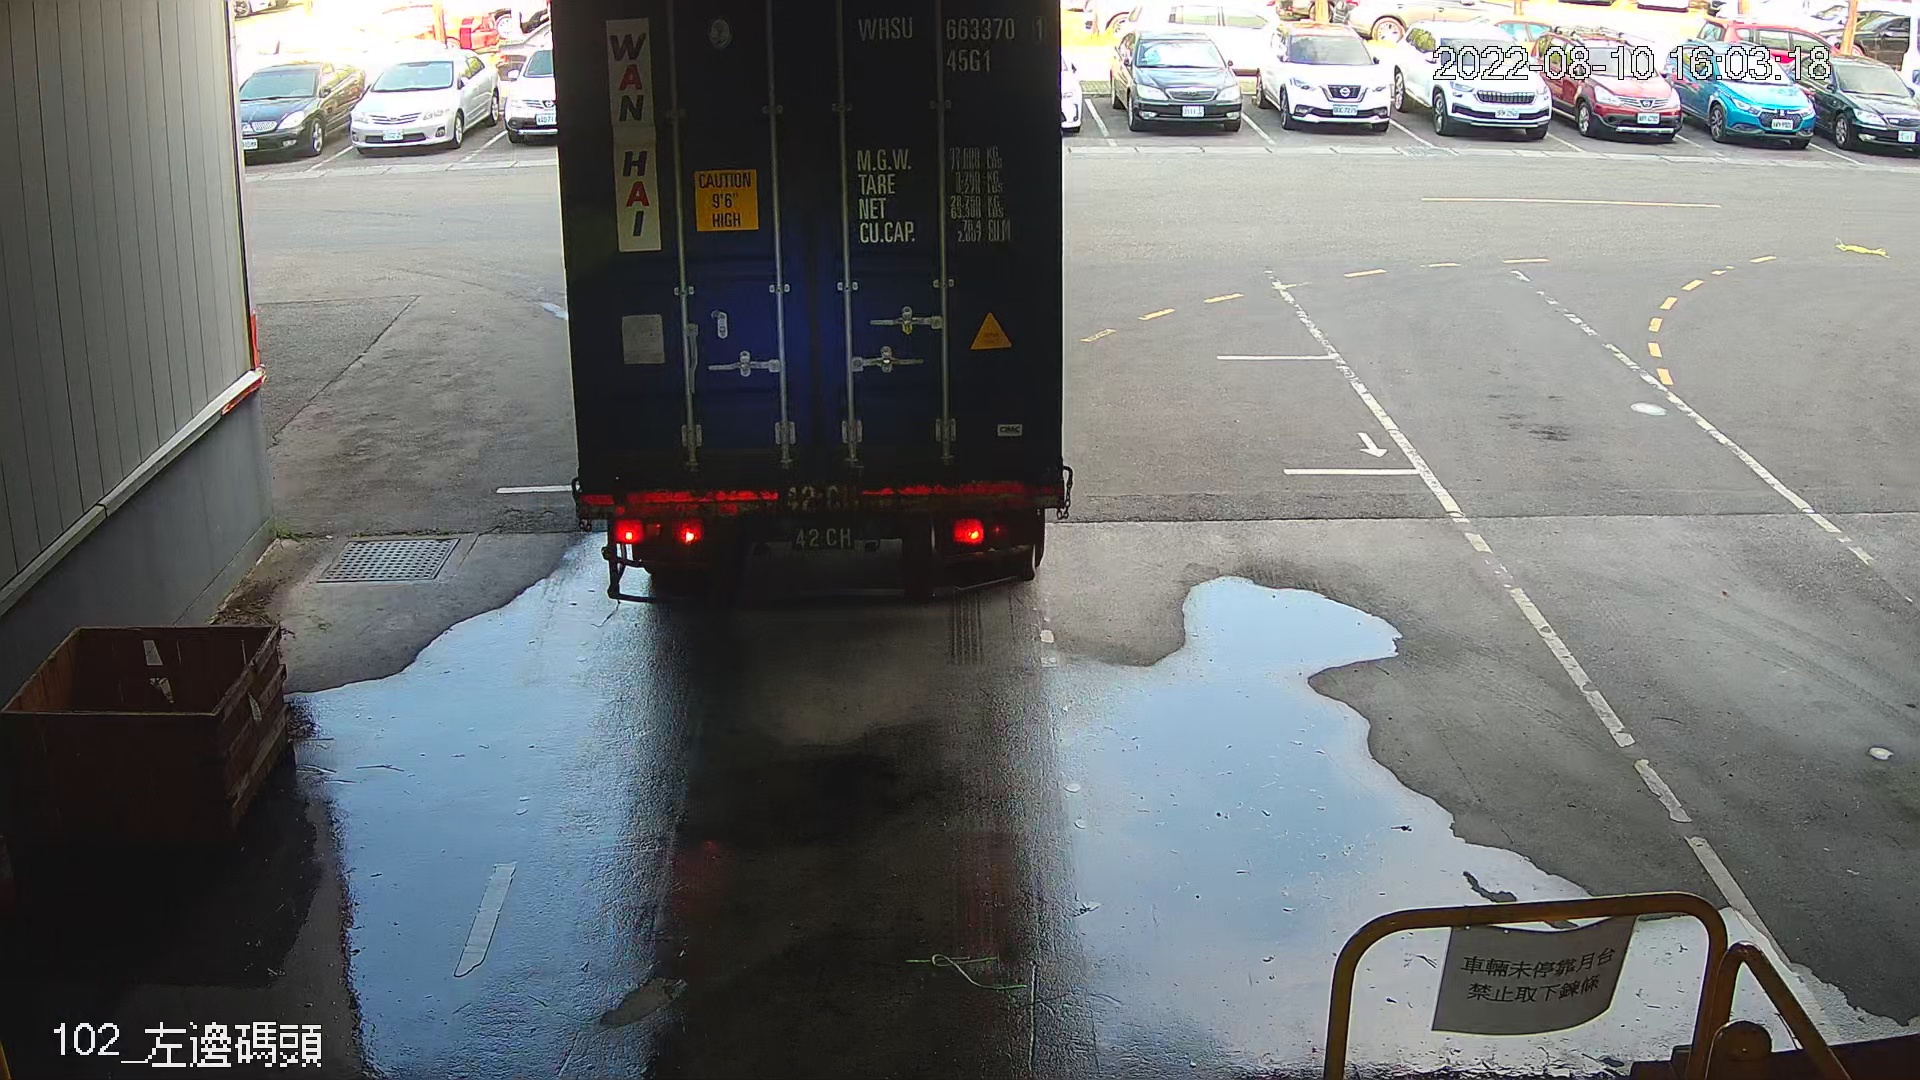container: (848, 4, 1058, 80)
